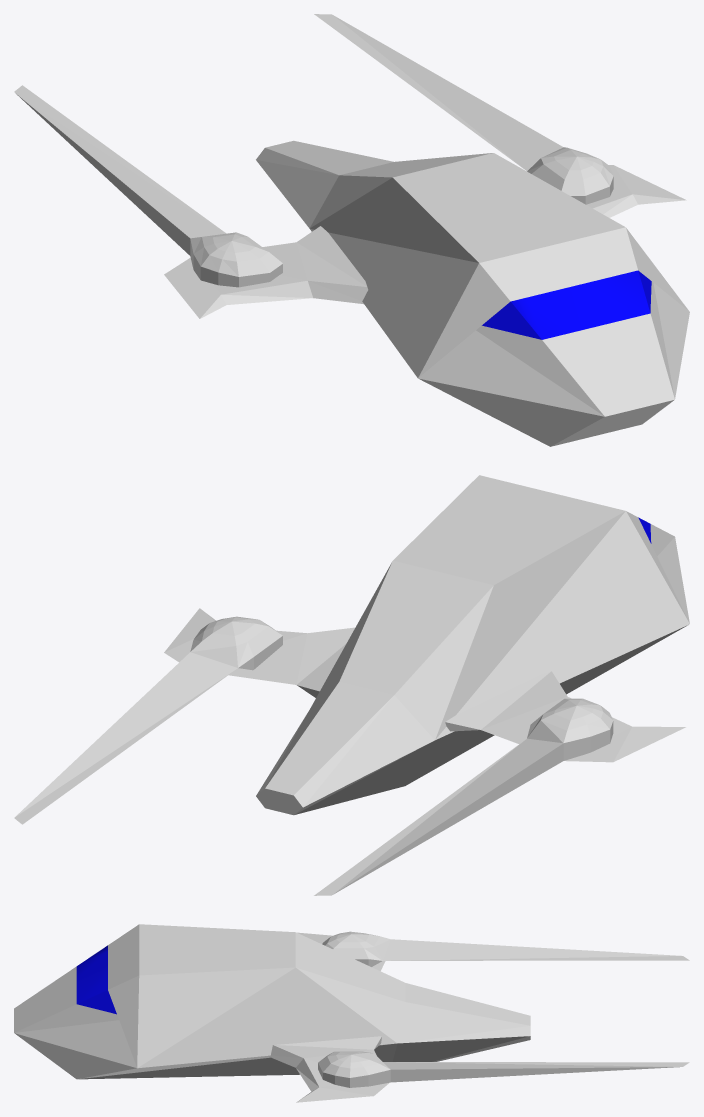
The model's file is ship.obj.
3 views of the same model, one above another, from view 1: azimuth 30°, elevation 25°; view 2: azimuth 150°, elevation 25°; view 3: azimuth 270°, elevation 25° (orthographic). The views are drawn at different scales.
Parts seen in each view (by area): view 1: mesh-cruis, mesh-windo; view 2: mesh-cruis; view 3: mesh-cruis, mesh-windo.
Boxes of the visible parts, <box> form: mesh-cruis: <box>14,14,689,446</box>; mesh-windo: <box>482,270,651,339</box>; mesh-cruis: <box>14,475,689,895</box>; mesh-cruis: <box>14,924,689,1102</box>; mesh-windo: <box>76,945,116,1014</box>.
Size of the model in its own units: 11.92 by 3.7 by 20.
